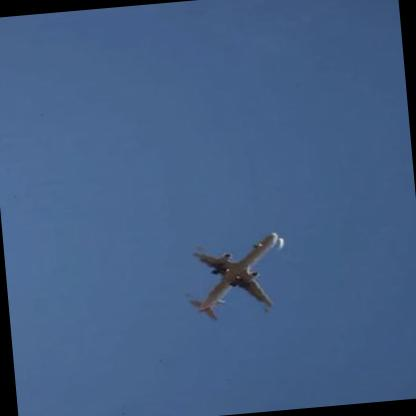plane: (178, 233, 291, 324)
